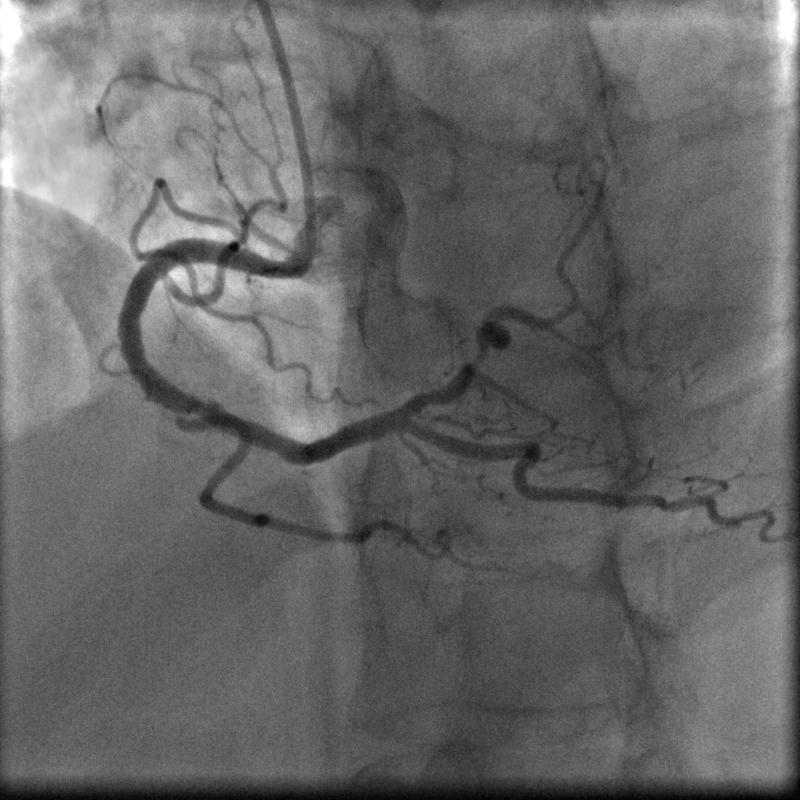Stenosis: (461, 336, 494, 372)
